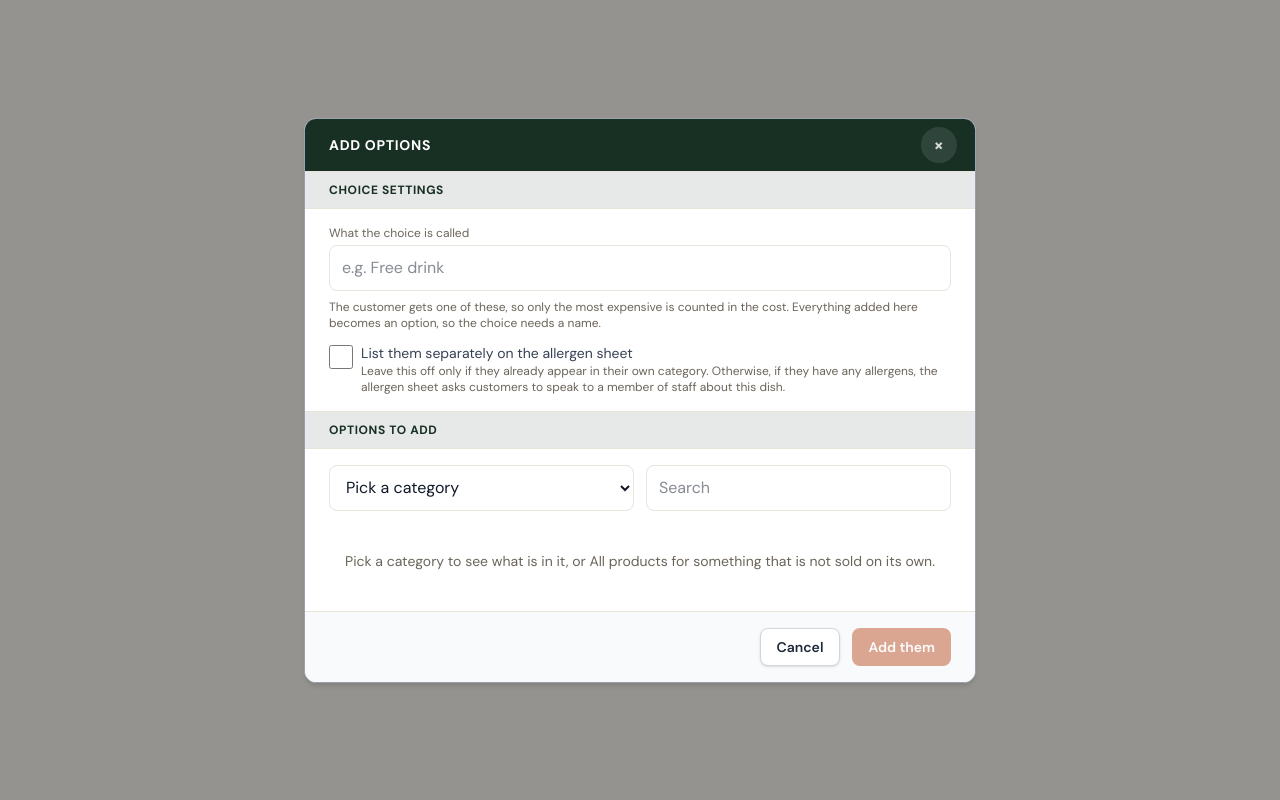
the List them separately box › starts ticked when the list comes from All products
Select "All products" in the dropdown named "Fill the list from" at (482, 488), box 329,464 -> 634,510
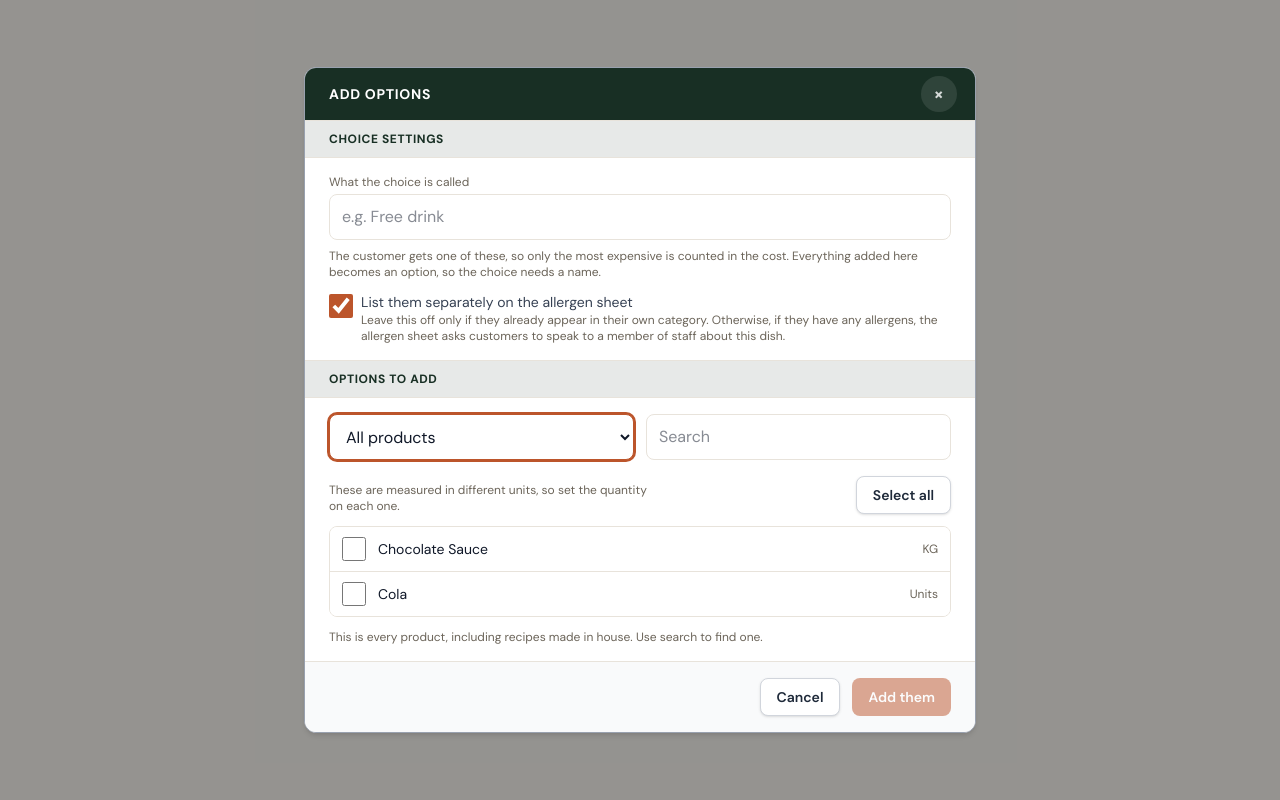
Check: the checkbox labelled "List them separately" is checked, box 329,294 -> 353,318
